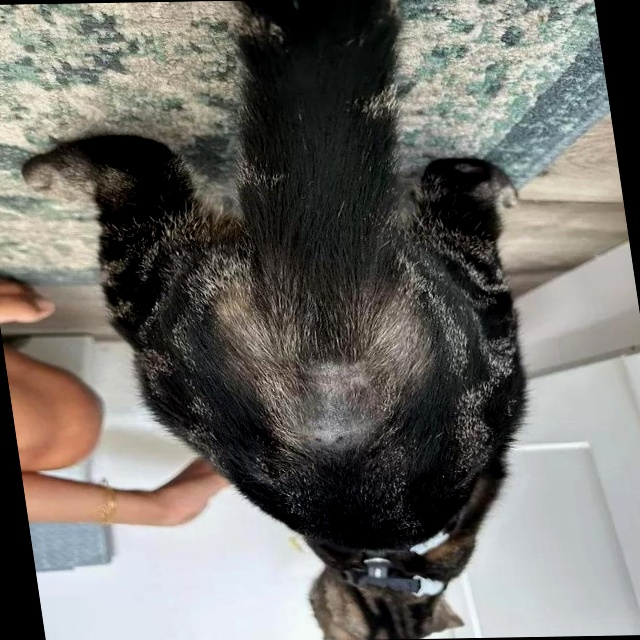hairloss: (273, 348, 383, 461)
